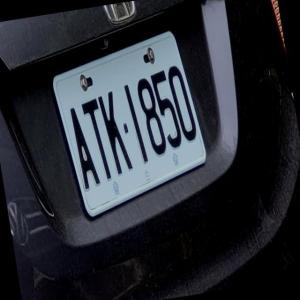Plate: (50, 27, 210, 224)
